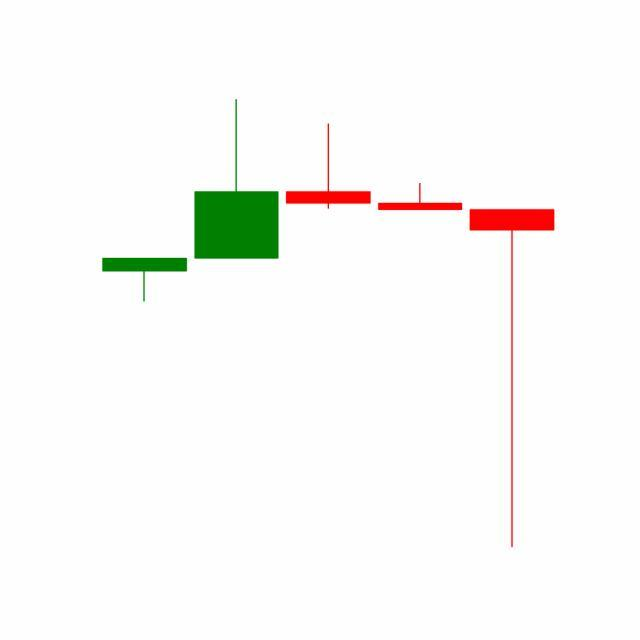Hammer: (466, 206, 559, 552)
